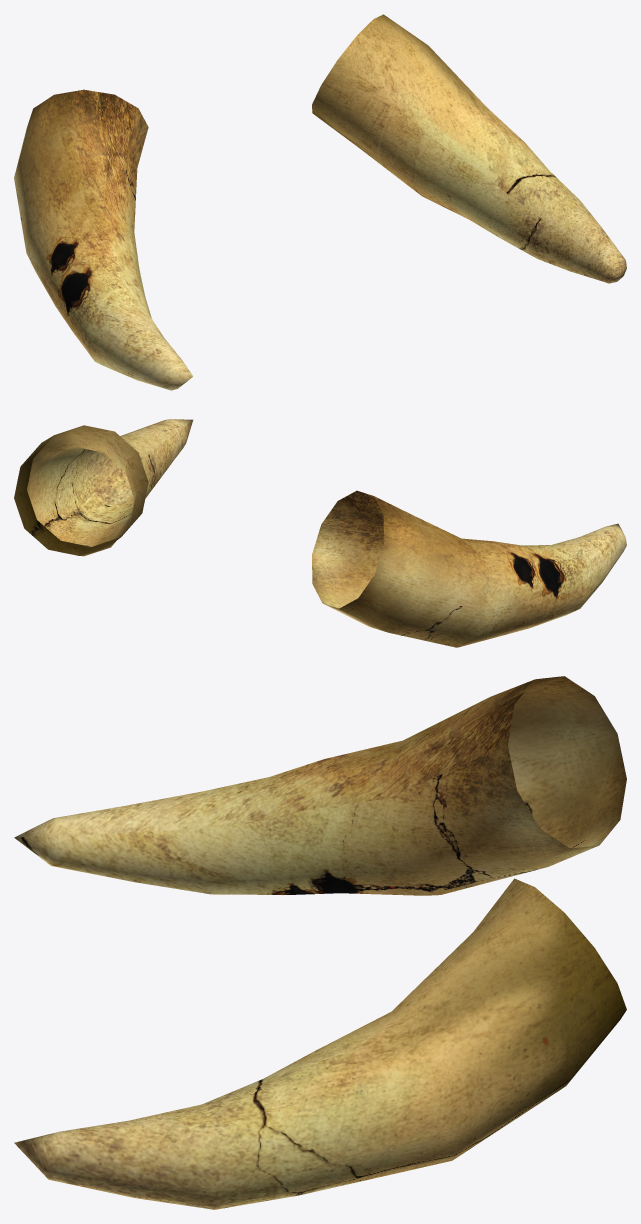
File: orc_tusks.glb
The picture shows the model from 3 angles, top to bottom: view 1: azimuth 30°, elevation 25°; view 2: azimuth 150°, elevation 25°; view 3: azimuth 270°, elevation 25°; orthographic projection. The views are drawn at different scales.
Visible parts, largest first — view 1: Circle.002_0; view 2: Circle.002_0; view 3: Circle.002_0.
Boxes of the visible parts, x1,y1,x2,y2 form: Circle.002_0: (14,14,626,390); Circle.002_0: (14,419,626,647); Circle.002_0: (14,676,626,1209).
Size of the model in its own units: 0.075 by 0.0258 by 0.0542.
1 material, 1 textured.
